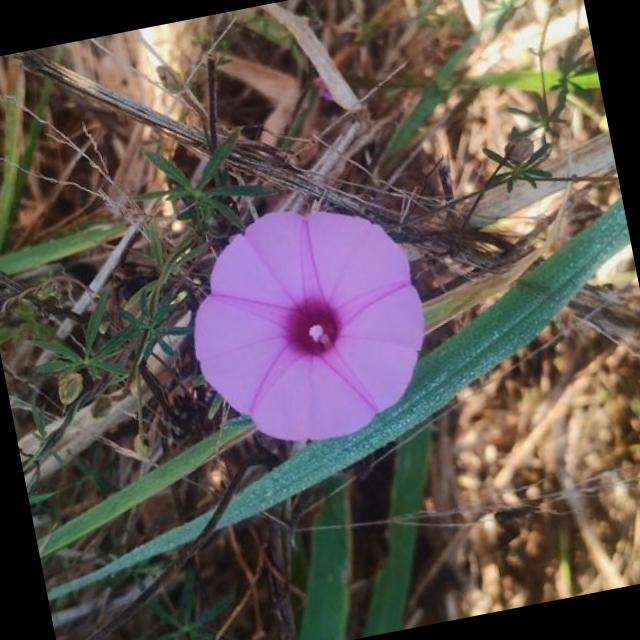ipomoea: (166, 182, 448, 466)
